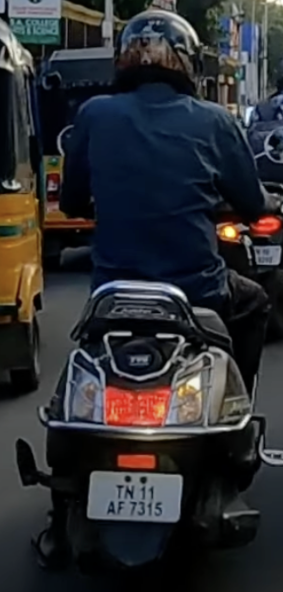motor: (26, 276, 267, 573)
number: (88, 469, 181, 522)
with helmet: (115, 10, 202, 94)
